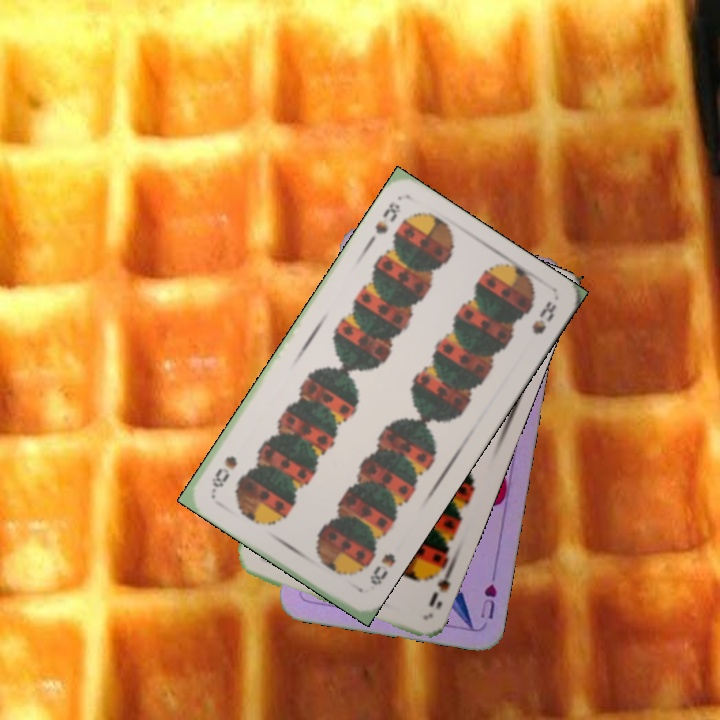HU: (477, 579, 500, 622)
S8: (370, 197, 404, 237), (365, 549, 398, 588)
S9: (424, 561, 456, 612)
